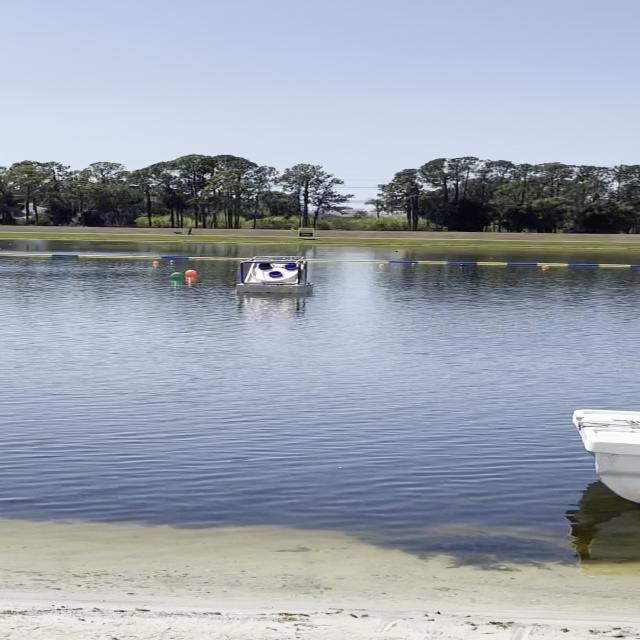buoy: (182, 268, 200, 279), (167, 271, 182, 281)
